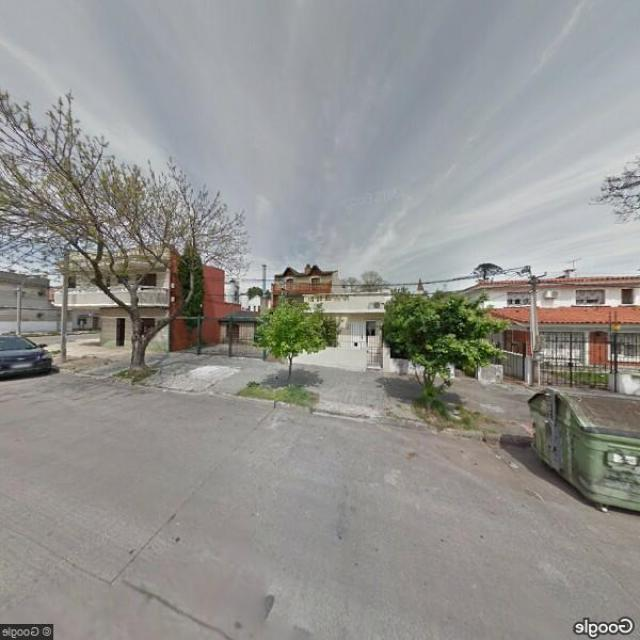garbage container: (511, 380, 639, 522)
